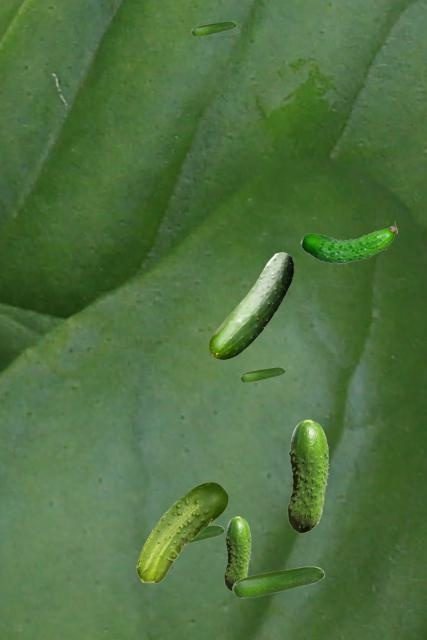cucumber: (136, 482, 227, 582), (209, 252, 292, 358), (287, 419, 328, 532), (300, 221, 396, 263), (232, 566, 323, 597), (224, 516, 250, 590), (188, 525, 223, 543), (240, 367, 284, 381), (191, 21, 235, 35)
